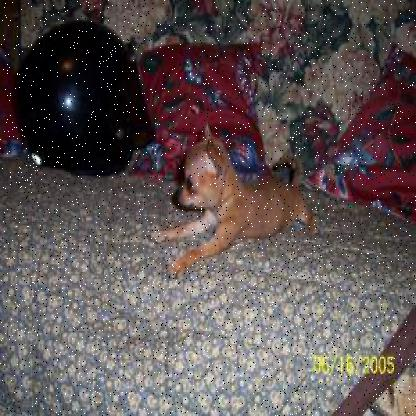dog: (154, 125, 318, 259)
